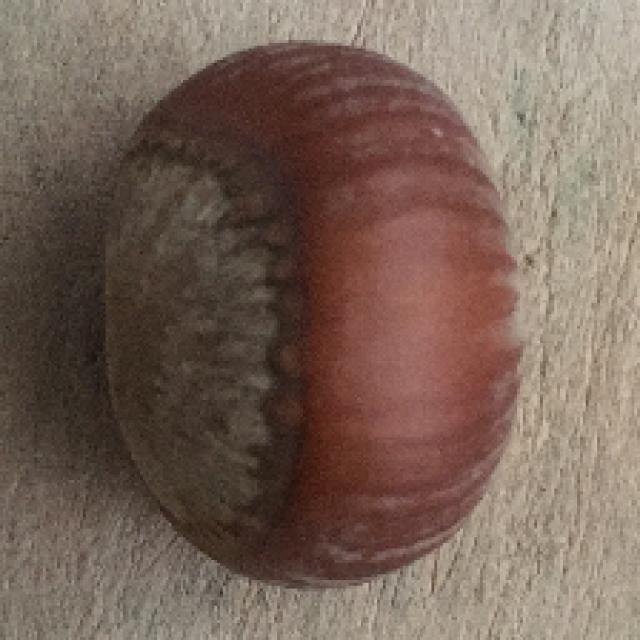qualityHazelnut: (106, 39, 520, 586)
